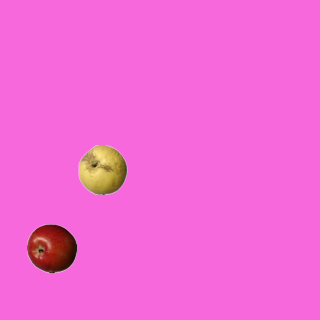Apple Braeburn: (26, 223, 76, 273)
Apple Golden 1: (77, 144, 127, 194)
